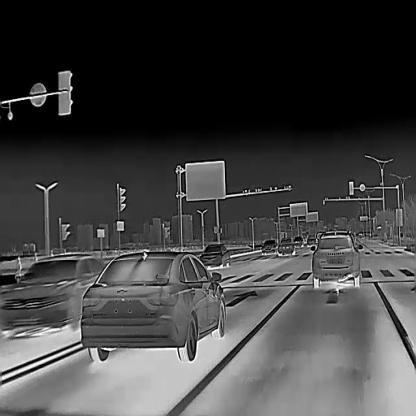car: (79, 250, 227, 364), (0, 250, 110, 336), (309, 228, 362, 288), (200, 242, 230, 267), (278, 236, 296, 256), (261, 238, 278, 255), (292, 236, 305, 249), (316, 230, 324, 245), (306, 234, 316, 245)
